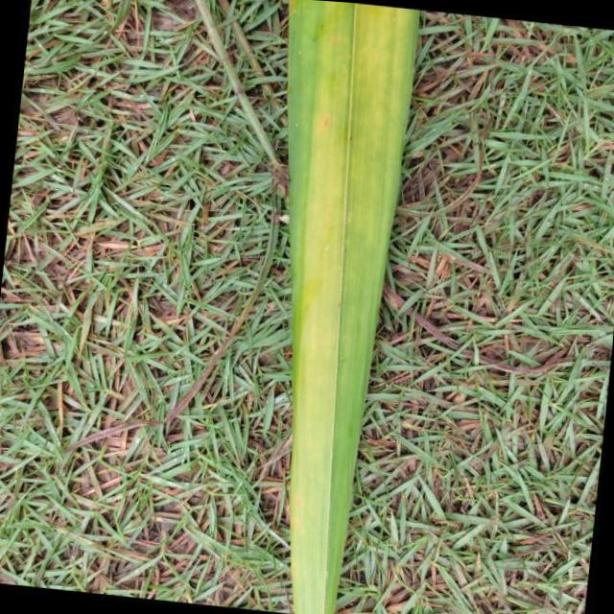nitrogen: (282, 0, 420, 614)
